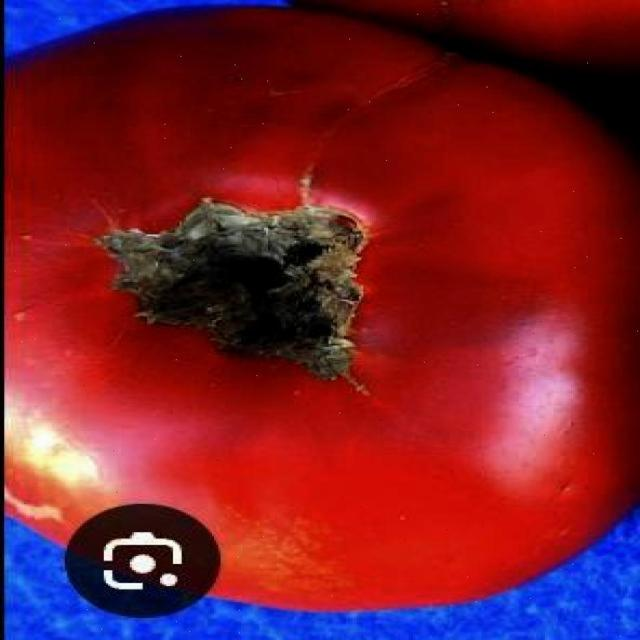Blossom End Rot Fruit: (61, 126, 246, 256)
